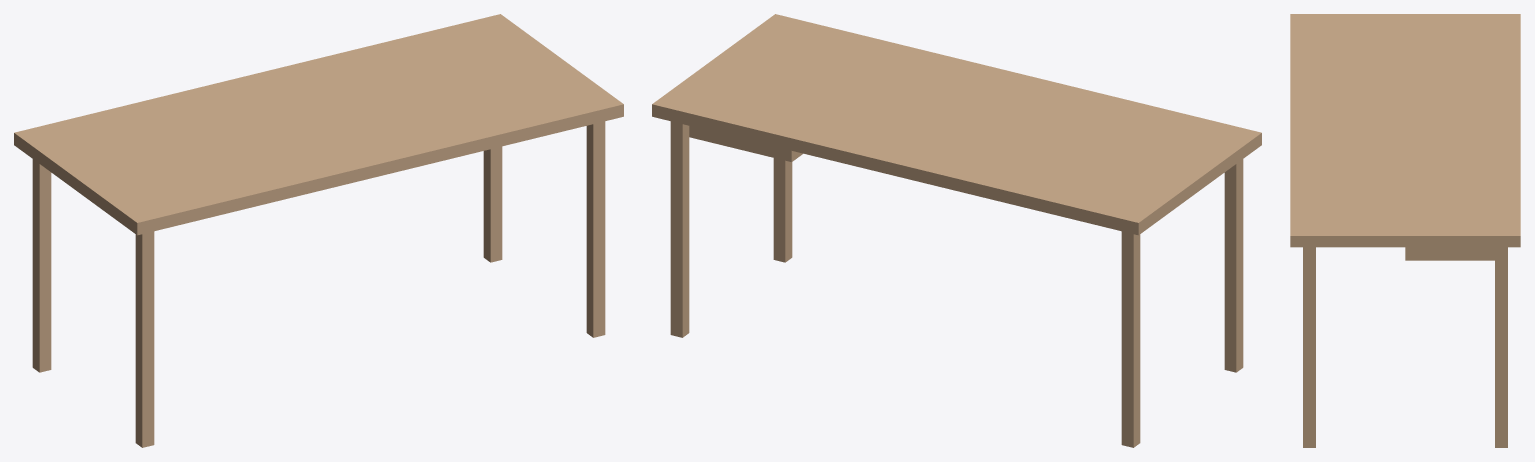
File: desk_05.glb
The picture shows the model from 3 angles, left to right: view 1: azimuth 30°, elevation 25°; view 2: azimuth 150°, elevation 25°; view 3: azimuth 270°, elevation 25°; orthographic projection. The views are drawn at different scales.
Size of the model in its own units: 1.64 by 0.75 by 0.72.
